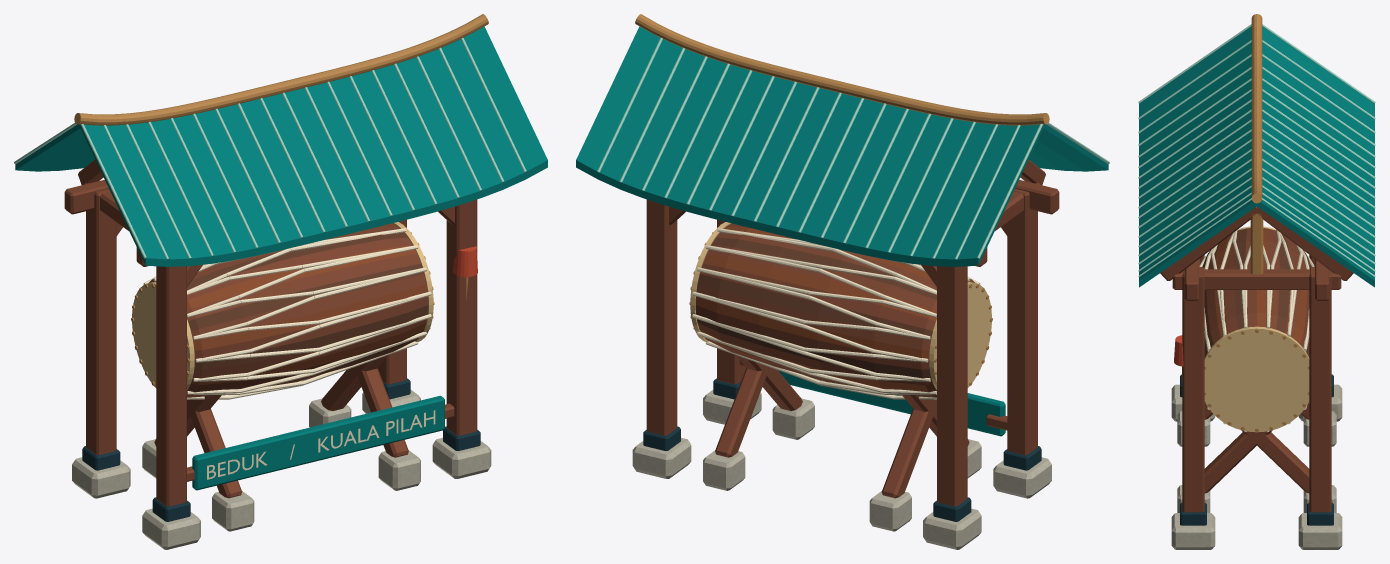
3 renders of one model, left to right at view 1: azimuth 30°, elevation 25°; view 2: azimuth 150°, elevation 25°; view 3: azimuth 270°, elevation 25°, orthographic. The views are drawn at different scales.
Parts seen in each view (by area): view 1: Folded roof pans, Hand hewn barrel staves, Wakaf posts, Laced tension ropes, Standing seams, Village nameplate, Pier pads, Crest flashing, Cradle forks, Cradle blocks, Bound drum heads, Pier shoes (+2 smaller); view 2: Folded roof pans, Wakaf posts, Hand hewn barrel staves, Laced tension ropes, Standing seams, Pier pads, Cradle forks, Crest flashing, Cradle blocks, Bound drum heads, Village nameplate, Pier shoes (+1 smaller); view 3: Folded roof pans, Standing seams, Wakaf posts, Bound drum heads, Hand hewn barrel staves, Pier pads, Cradle forks, Gable tie, Laced tension ropes, Gable rafters, Crest flashing, Cradle blocks (+4 smaller).
Boxes of the visible parts, x1,y1,x2,y2 form: Folded roof pans: [15, 26, 547, 266]; Hand hewn barrel staves: [149, 223, 428, 397]; Wakaf posts: [86, 188, 477, 506]; Laced tension ropes: [143, 228, 431, 399]; Standing seams: [14, 38, 526, 259]; Village nameplate: [192, 395, 444, 490]; Pier pads: [72, 390, 491, 549]; Crest flashing: [74, 14, 488, 125]; Cradle forks: [154, 355, 408, 498]; Cradle blocks: [142, 398, 420, 531]; Bound drum heads: [132, 222, 433, 389]; Pier shoes: [82, 378, 480, 521]; Folded roof pans: [576, 26, 1108, 266]; Wakaf posts: [646, 188, 1037, 506]; Hand hewn barrel staves: [695, 223, 974, 397]; Laced tension ropes: [692, 228, 980, 399]; Standing seams: [597, 38, 1109, 259]; Pier pads: [632, 390, 1051, 549]; Cradle forks: [715, 355, 969, 498]; Crest flashing: [635, 14, 1049, 125]; Cradle blocks: [703, 398, 981, 531]; Bound drum heads: [690, 222, 991, 389]; Village nameplate: [778, 370, 1005, 436]; Pier shoes: [643, 378, 1041, 521]; Folded roof pans: [1139, 26, 1374, 287]; Standing seams: [1138, 24, 1375, 276]; Wakaf posts: [1182, 255, 1331, 512]; Bound drum heads: [1204, 226, 1309, 432]; Hand hewn barrel staves: [1202, 228, 1311, 357]; Pier pads: [1171, 384, 1342, 549]; Cradle forks: [1204, 401, 1309, 493]; Gable tie: [1172, 269, 1341, 289]; Laced tension ropes: [1199, 230, 1314, 431]; Gable rafters: [1160, 206, 1353, 280]; Crest flashing: [1251, 14, 1262, 203]; Cradle blocks: [1177, 411, 1336, 512].
Bounding box in the file's own units: 2.86 × 2.75 × 1.58.
Materials: 11 (1 with a texture image).
